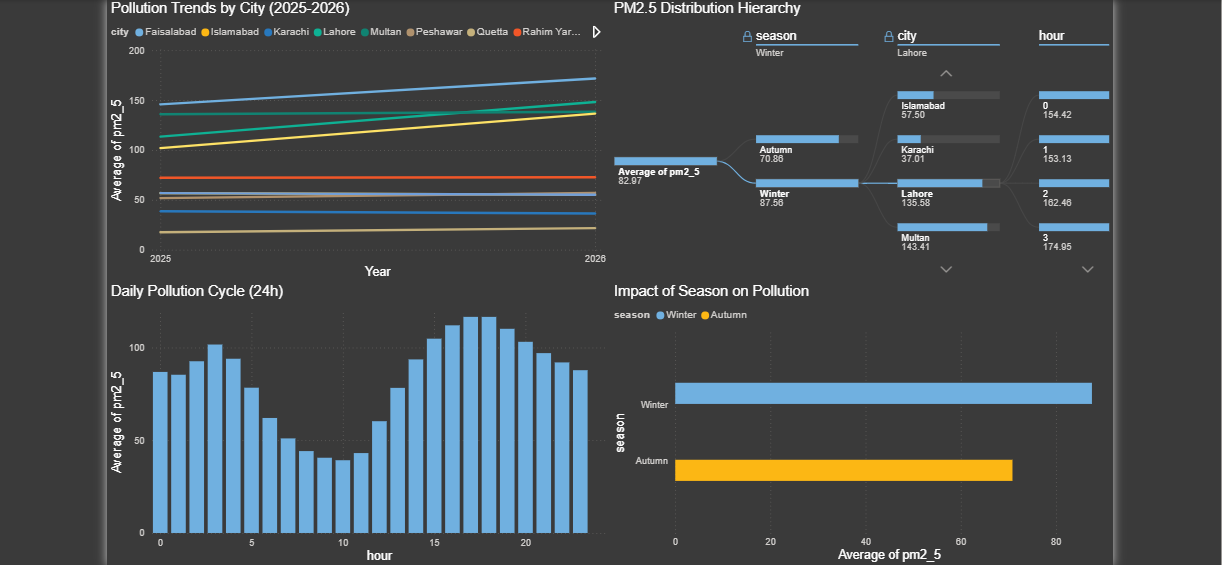

The page's visual inventory and layout, read from the dashboard file:
{"tool":"powerbi","page":{"name":"Page 2","canvas":[1280,720],"ordinal":1},"visuals":[{"type":"lineChart","title":"Pollution Trends by City (2025-2026)","fields":{"Category":["advisor_airqualityrecord.date.Variation.Date Hierarchy.Year","advisor_airqualityrecord.date.Variation.Date Hierarchy.Quarter","advisor_airqualityrecord.date.Variation.Date Hierarchy.Month","advisor_airqualityrecord.date.Variation.Date Hierarchy.Day"],"Y":["Avg(advisor_airqualityrecord.pm2_5)"],"Series":["advisor_airqualityrecord.city"]},"box":[0,0,640,360],"z":0},{"type":"clusteredColumnChart","title":"Daily Pollution Cycle (24h)","fields":{"Category":["advisor_airqualityrecord.hour"],"Y":["Avg(advisor_airqualityrecord.pm2_5)"]},"box":[0,360,640,360],"z":1000},{"type":"clusteredBarChart","title":"Impact of Season on Pollution","fields":{"Category":["advisor_airqualityrecord.season"],"Y":["Avg(advisor_airqualityrecord.pm2_5)"],"Series":["advisor_airqualityrecord.season"]},"box":[639.9,360,639.9,360],"z":2000},{"type":"decompositionTreeVisual","title":"PM2.5 Distribution Hierarchy","fields":{"Analyze":["Avg(advisor_airqualityrecord.pm2_5)"],"ExplainBy":["advisor_airqualityrecord.season","advisor_airqualityrecord.city","advisor_airqualityrecord.hour"]},"box":[639.9,0,639.9,360],"z":3000}]}

Visuals, with their boxes on the page's 1280x720 design canvas (x1, y1, x2, y2). These are canvas units, not pixel positions in the 1222x565 screenshot, which may show the page scaled, cropped or inside an application window:
"Pollution Trends by City (2025-2026)" lineChart: box(0, 0, 640, 360)
"Daily Pollution Cycle (24h)" clusteredColumnChart: box(0, 360, 640, 720)
"Impact of Season on Pollution" clusteredBarChart: box(640, 360, 1280, 720)
"PM2.5 Distribution Hierarchy" decompositionTreeVisual: box(640, 0, 1280, 360)
